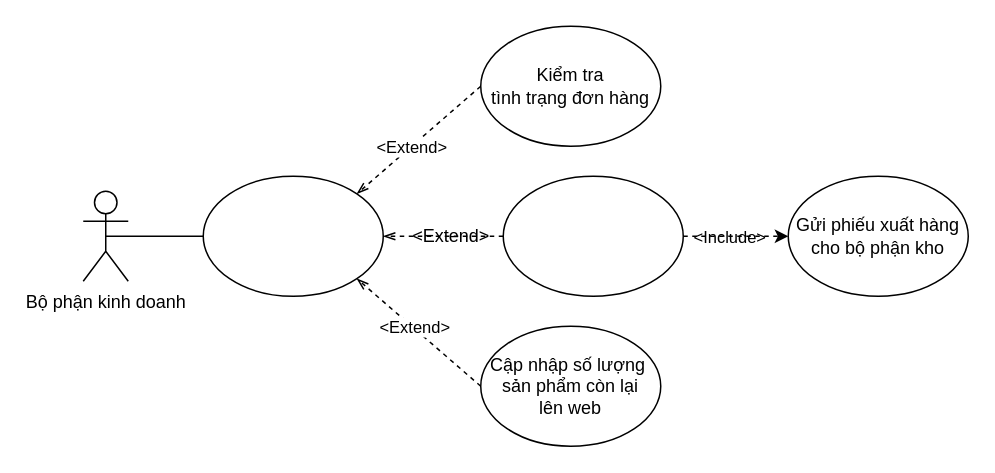
The diagram is 995 pixels wide and 473 high, and some of its shapes have lost their labels. Here are the shapes that lost their labels. From the top down, the box of each, then its label:
(202, 175, 383, 296): Đăng nhập
(502, 175, 683, 296): Tiếp nhận đơn đặt hàng
